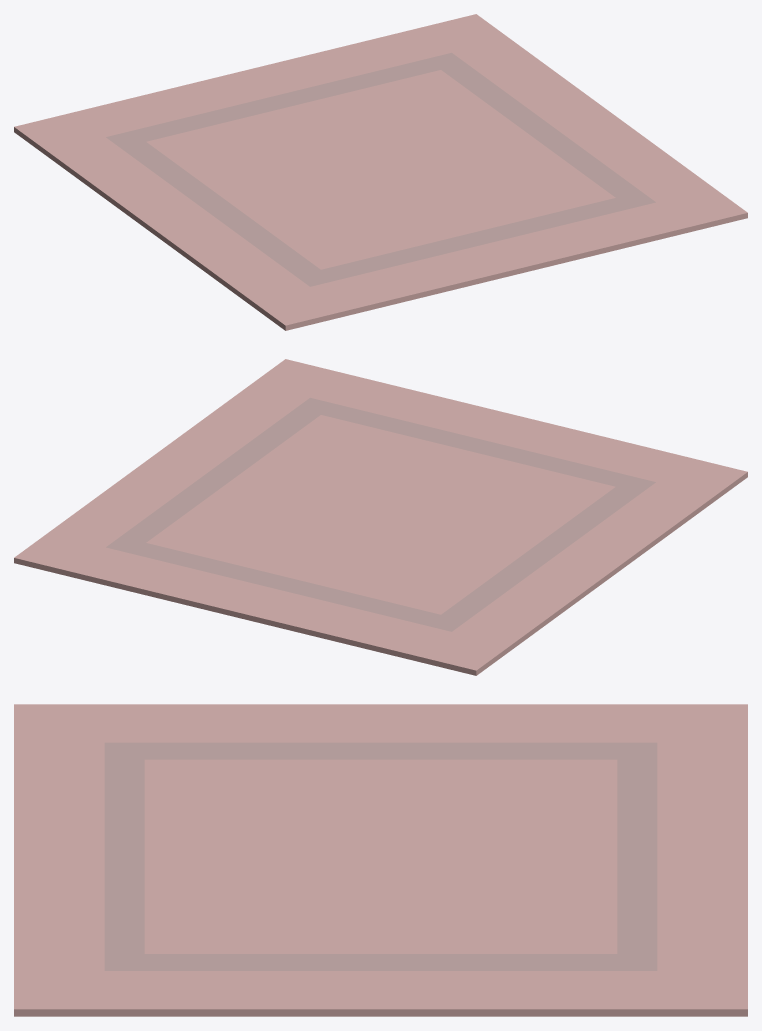
Rendered from furn_rugSquare.glb.
3 views of the same model, one above another, from view 1: azimuth 30°, elevation 25°; view 2: azimuth 150°, elevation 25°; view 3: azimuth 270°, elevation 25° (orthographic). The views are drawn at different scales.
Bounding box in the file's own units: 1.81 × 0.02 × 1.84.
